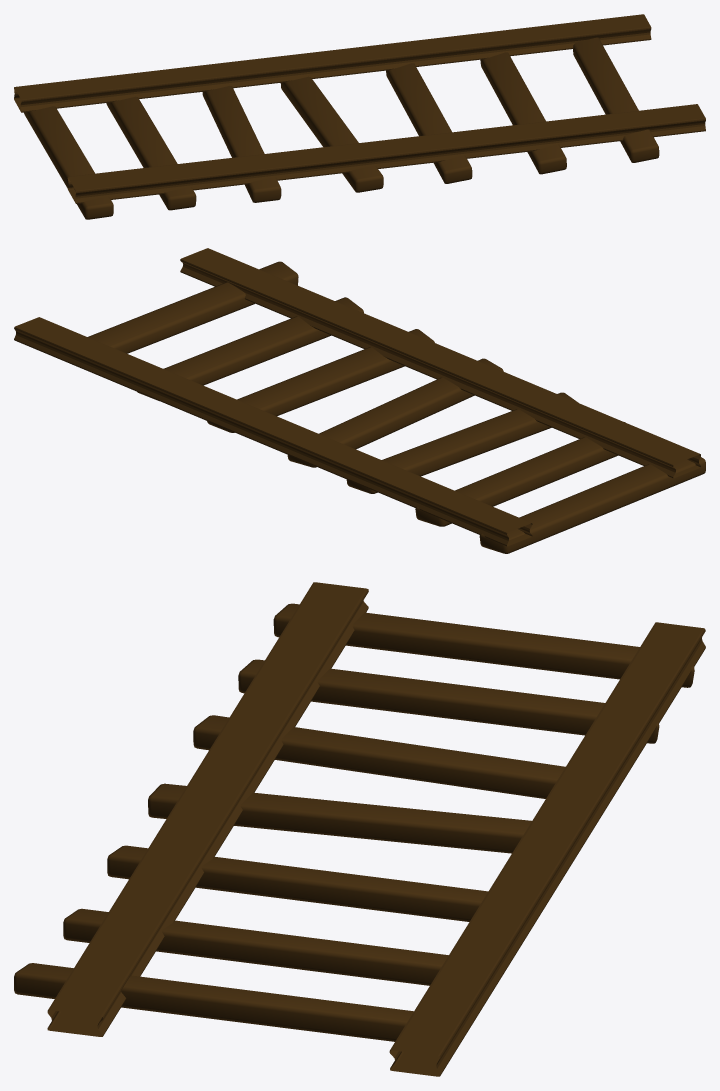
The model's file is TrackExport.fbx.
The picture shows the model from 3 angles, top to bottom: view 1: azimuth 30°, elevation 25°; view 2: azimuth 150°, elevation 25°; view 3: azimuth 270°, elevation 25°; orthographic projection. The views are drawn at different scales.
Parts seen in each view (by area): view 1: TrackExtra; view 2: TrackExtra; view 3: TrackExtra.
Part boxes in pixels (x1,y1,x2,y2): TrackExtra: [14, 14, 705, 219]; TrackExtra: [14, 248, 705, 553]; TrackExtra: [14, 582, 705, 1076].
Size of the model in its own units: 597 by 24.72 by 368.
